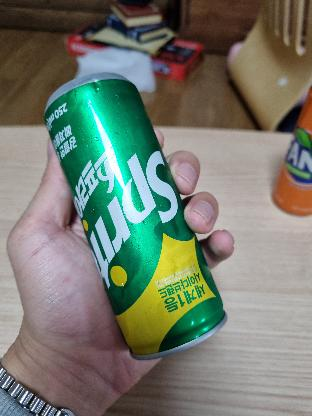Can: (43, 80, 227, 362)
